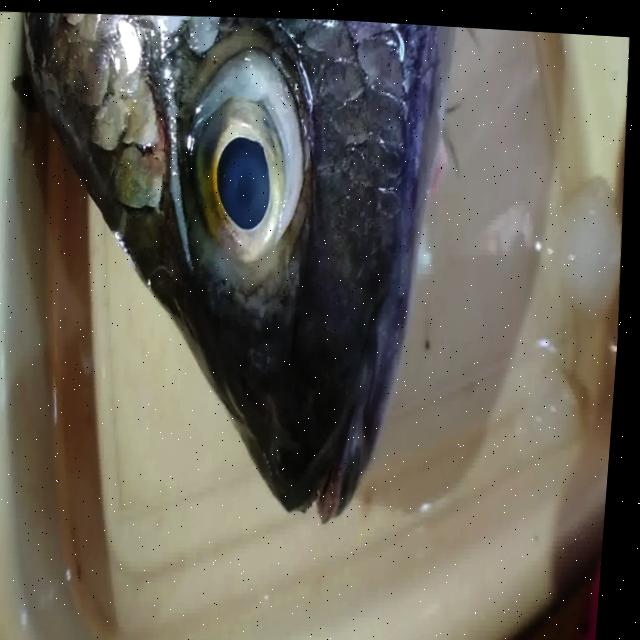Fresh: (153, 8, 349, 335)
